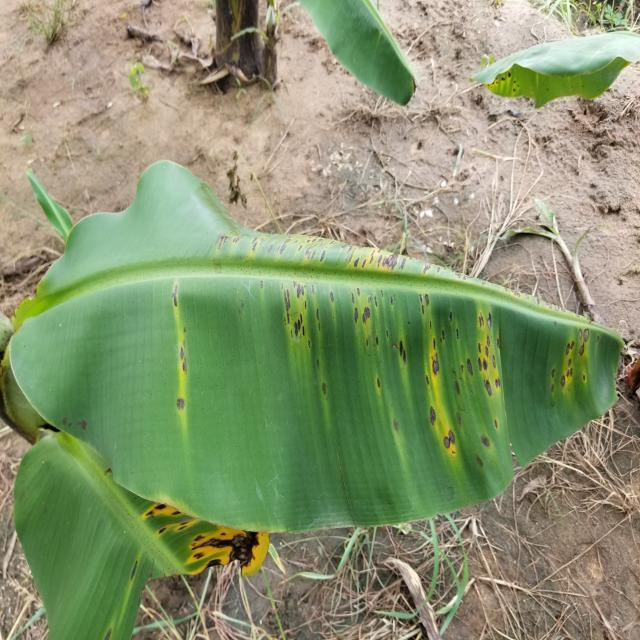Early_rust: (154, 203, 611, 484), (91, 476, 291, 633), (475, 54, 542, 112)
